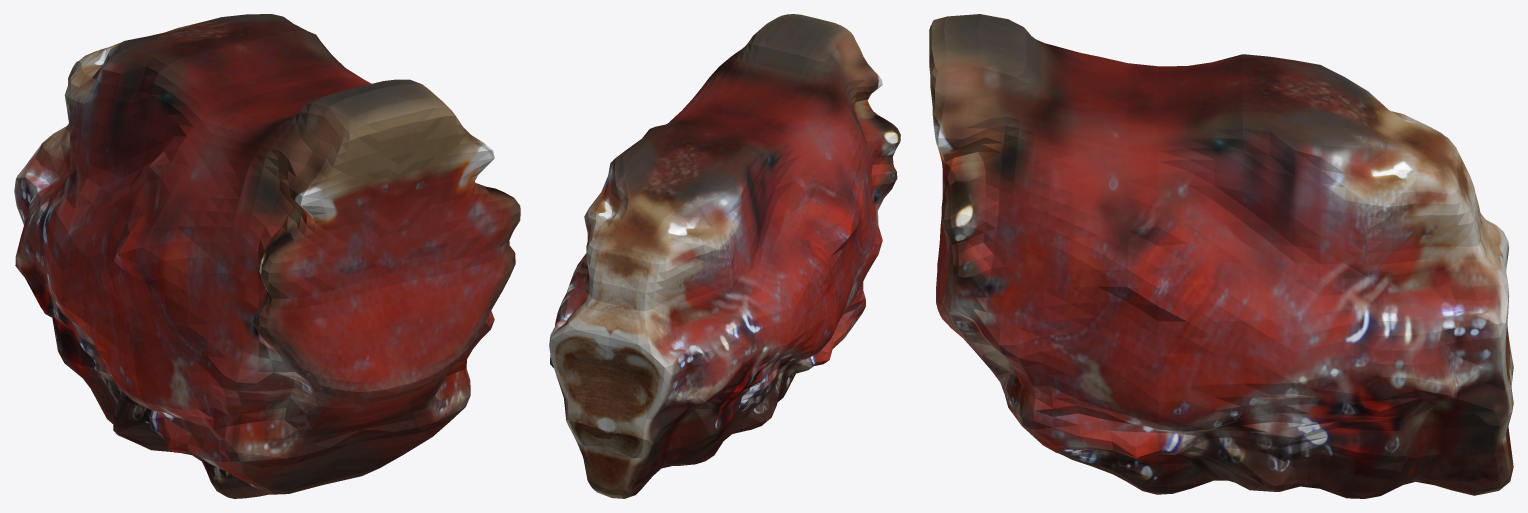
File: garnet_001.glb
3 views of the same model, side by side, from view 1: azimuth 30°, elevation 25°; view 2: azimuth 150°, elevation 25°; view 3: azimuth 270°, elevation 25° (orthographic). The views are drawn at different scales.
Parts seen in each view (by area): view 1: tripo_node_67a2d67b-2d23-4061-bad0-4894bf26b1ae; view 2: tripo_node_67a2d67b-2d23-4061-bad0-4894bf26b1ae; view 3: tripo_node_67a2d67b-2d23-4061-bad0-4894bf26b1ae.
Boxes of the visible parts, left/top/right/bottom form: tripo_node_67a2d67b-2d23-4061-bad0-4894bf26b1ae: left=14, top=14, right=520, bottom=498; tripo_node_67a2d67b-2d23-4061-bad0-4894bf26b1ae: left=549, top=14, right=900, bottom=498; tripo_node_67a2d67b-2d23-4061-bad0-4894bf26b1ae: left=929, top=14, right=1513, bottom=498.
Bounding box in the file's own units: 0.5825 × 0.8217 × 0.9459.
Materials: 1 (1 with a texture image).
